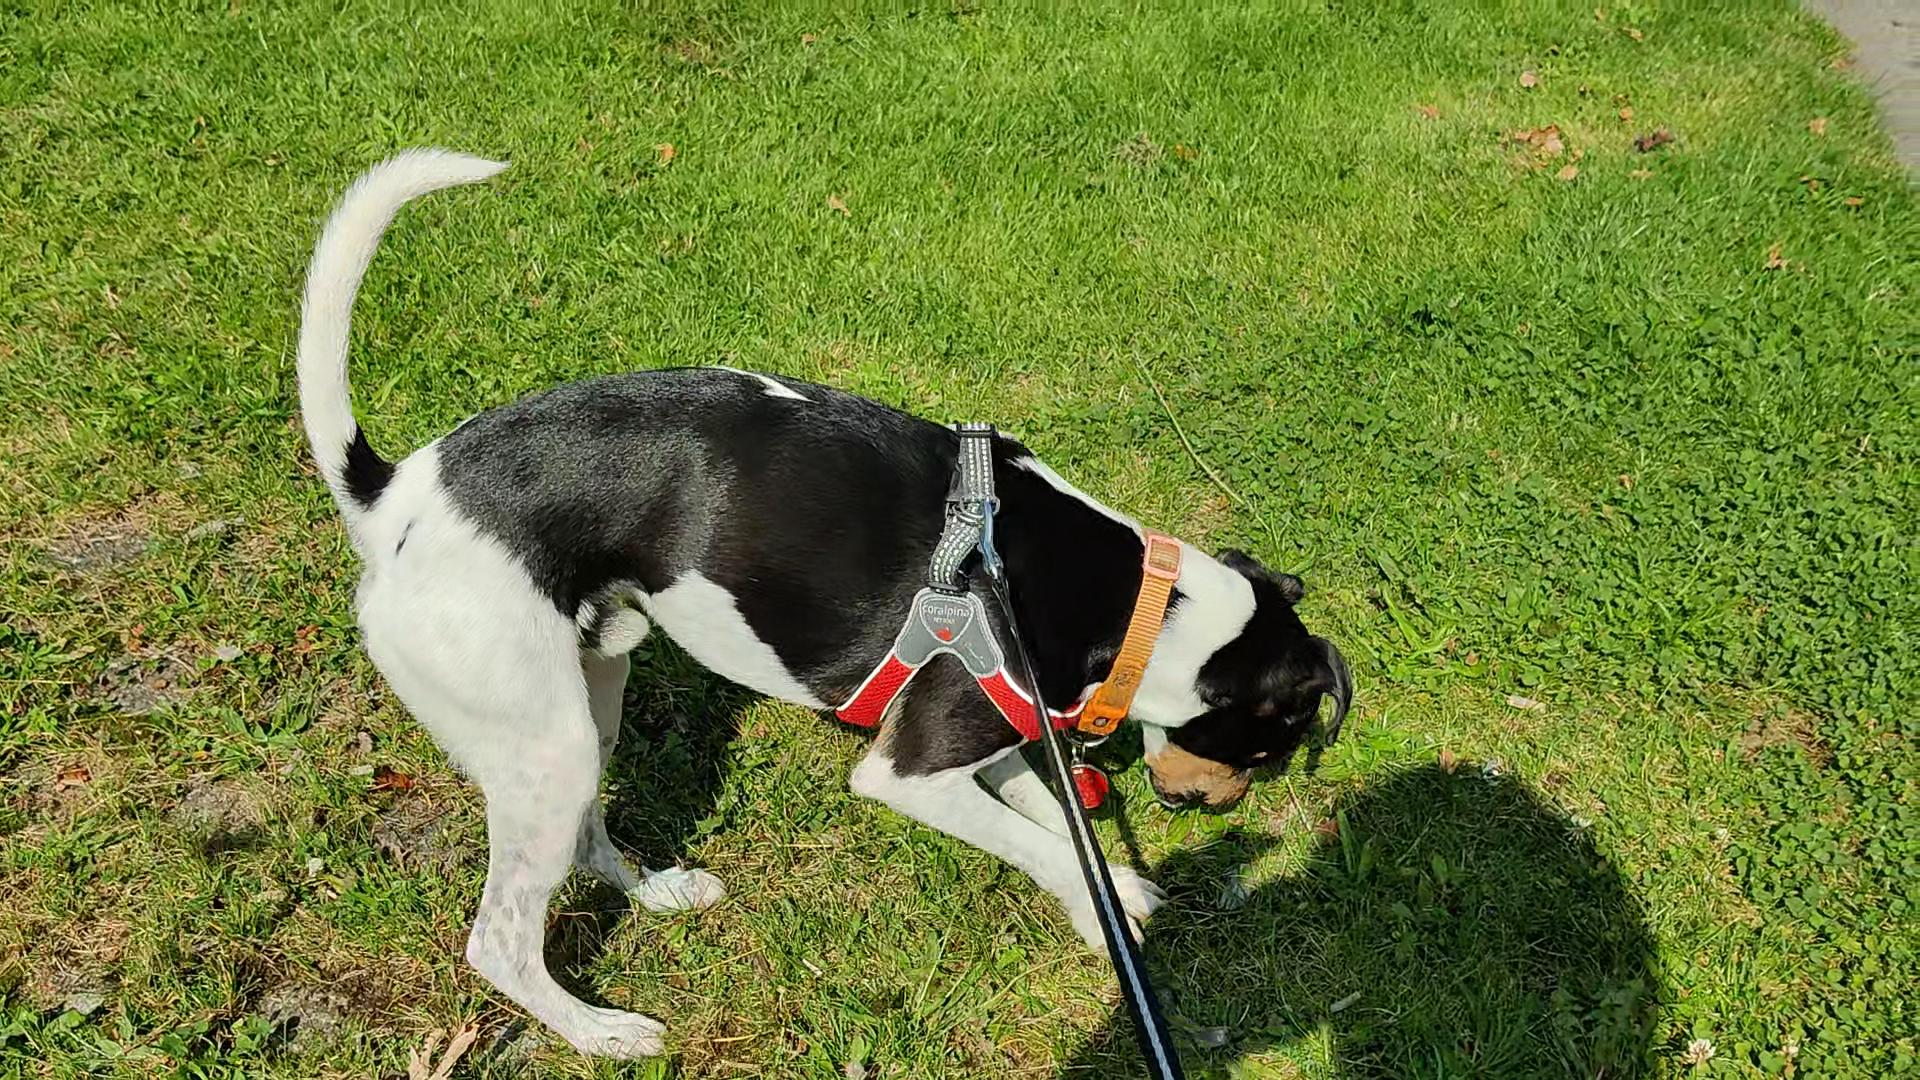Dog: (286, 138, 1360, 1063)
